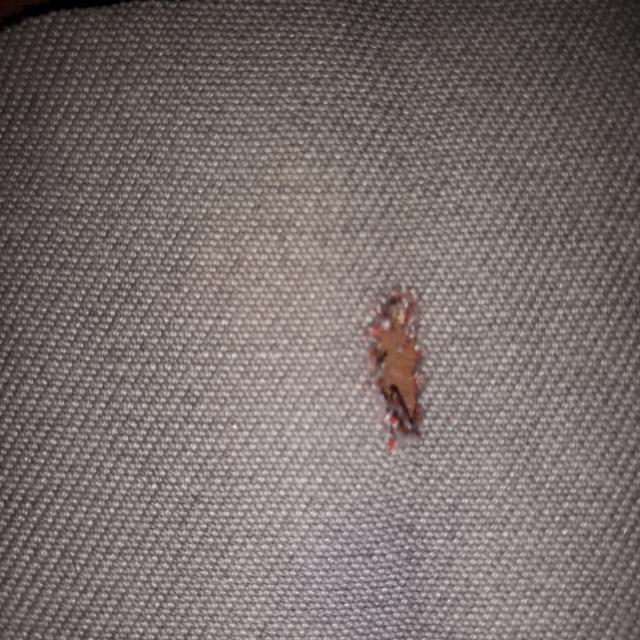seam: (328, 268, 462, 474)
